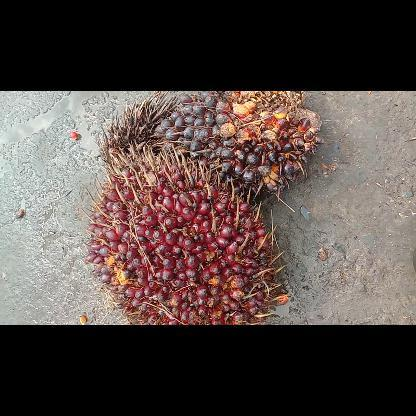Janjang kosong: (96, 91, 180, 164)
TBS masak: (84, 140, 286, 324)
TBS mentah: (155, 90, 322, 200)
